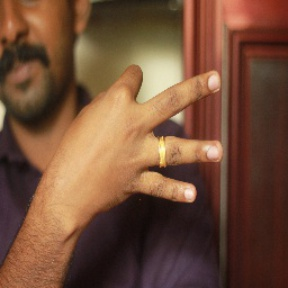K: (42, 64, 226, 208)
